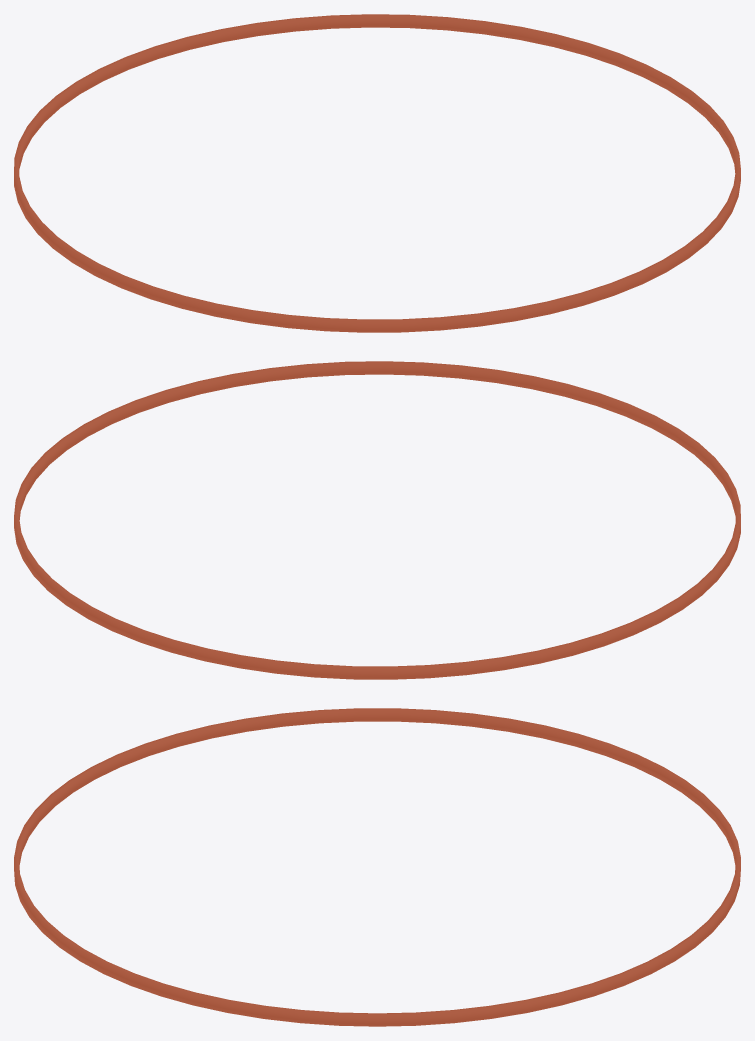
The model's file is led_strip.glb.
3 renders of one model, top to bottom at view 1: azimuth 30°, elevation 25°; view 2: azimuth 150°, elevation 25°; view 3: azimuth 270°, elevation 25°, orthographic.
Visible parts, largest first — view 1: диодка.001; view 2: диодка.001; view 3: диодка.001.
Boxes of the visible parts, x1,y1,x2,y2 form: диодка.001: (14, 14, 740, 332); диодка.001: (14, 361, 740, 679); диодка.001: (14, 708, 740, 1026).
Bounding box in the file's own units: 0.1639 × 0.0028 × 0.1639.
